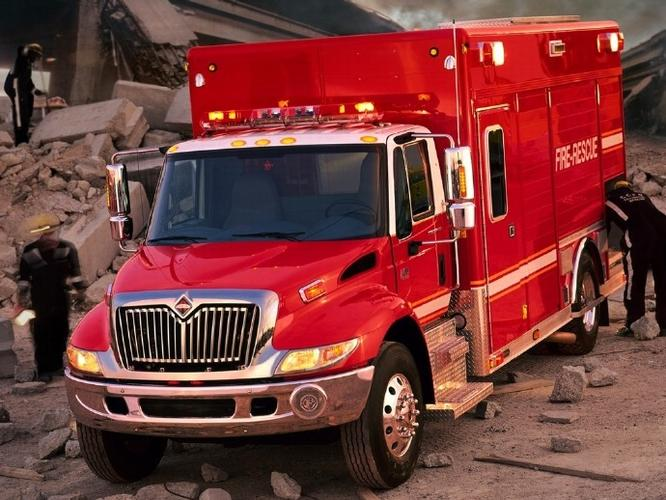卡车: (64, 14, 648, 485)
